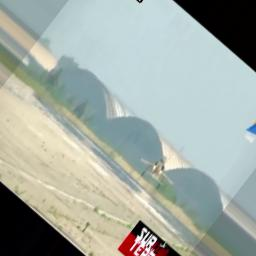Airplane: (139, 156, 174, 190)
